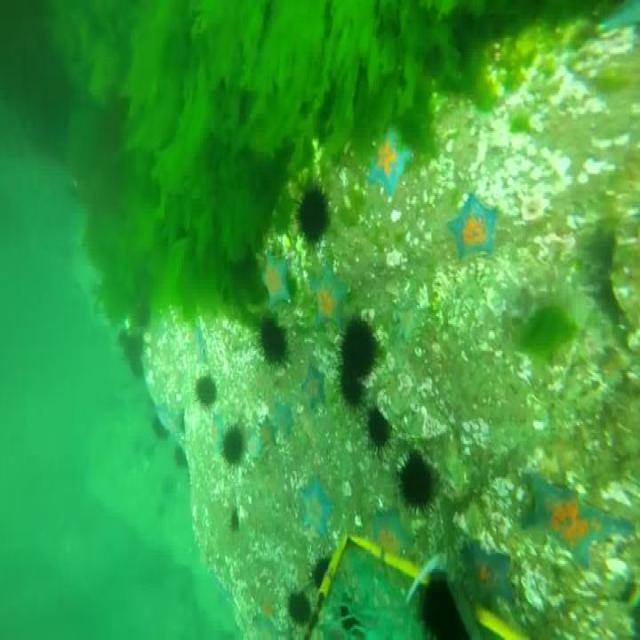echinus: (420, 572, 466, 640), (398, 450, 441, 517), (290, 185, 332, 246), (340, 313, 380, 371), (256, 322, 288, 368), (116, 330, 146, 374), (366, 408, 390, 460), (218, 428, 242, 465), (311, 558, 337, 592), (288, 591, 310, 629), (197, 376, 215, 408), (342, 379, 364, 403), (172, 449, 190, 468)
starfish: (528, 466, 633, 574), (464, 544, 515, 613), (447, 194, 499, 261), (370, 128, 410, 201), (298, 476, 334, 544), (309, 270, 347, 330), (369, 511, 412, 564), (263, 254, 291, 306), (301, 367, 327, 408), (396, 306, 417, 342), (255, 591, 277, 623), (258, 417, 276, 452), (276, 406, 294, 430), (188, 330, 205, 354), (158, 409, 172, 432), (212, 420, 222, 449)
